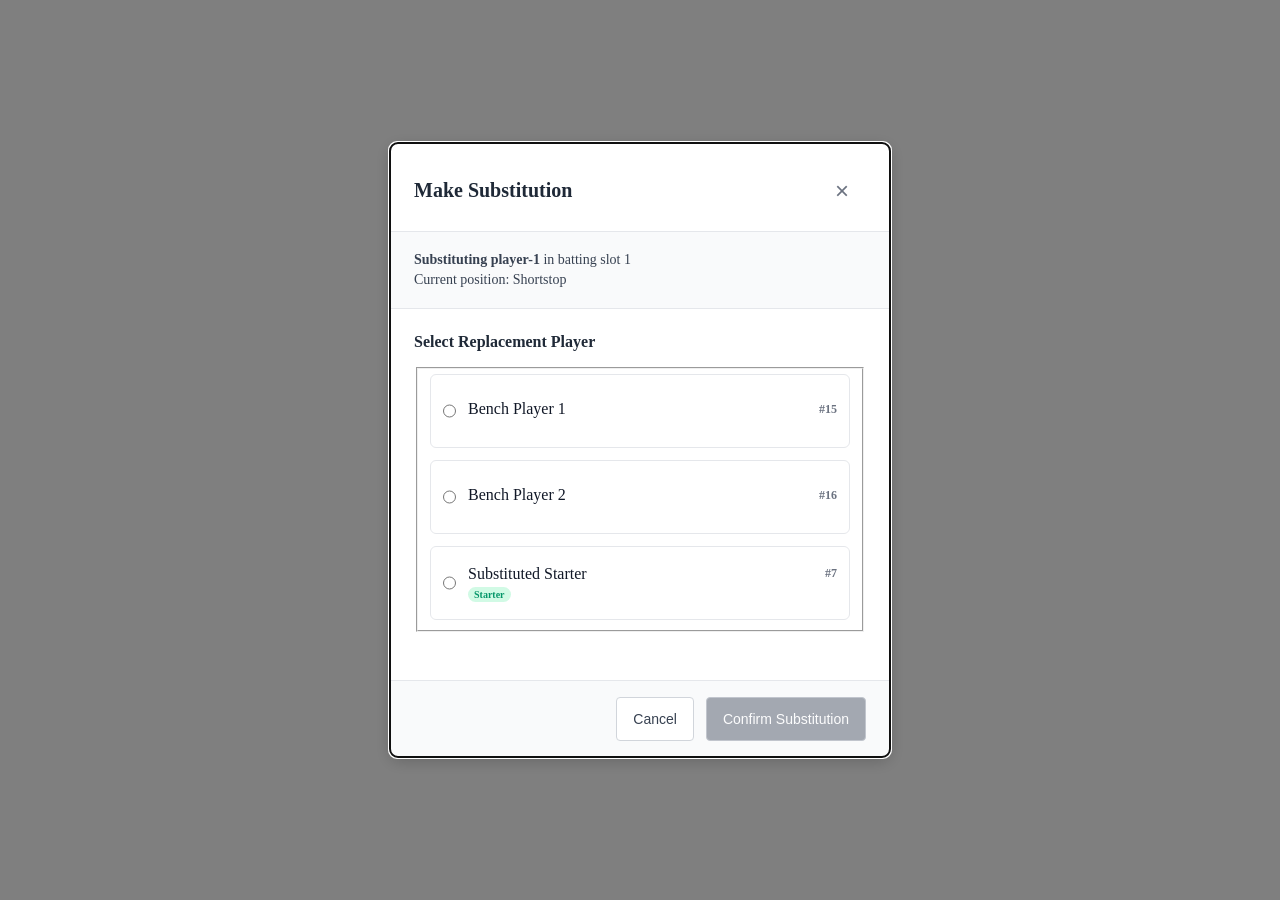
it: SubstitutionDialog Component - TDD Implementation › Field Position Selection › should display available field positions after eligible player selected
# First, select an eligible player
Click the radio button labelled "Bench Player 1 #15": (450, 411) [443,387,456,435]
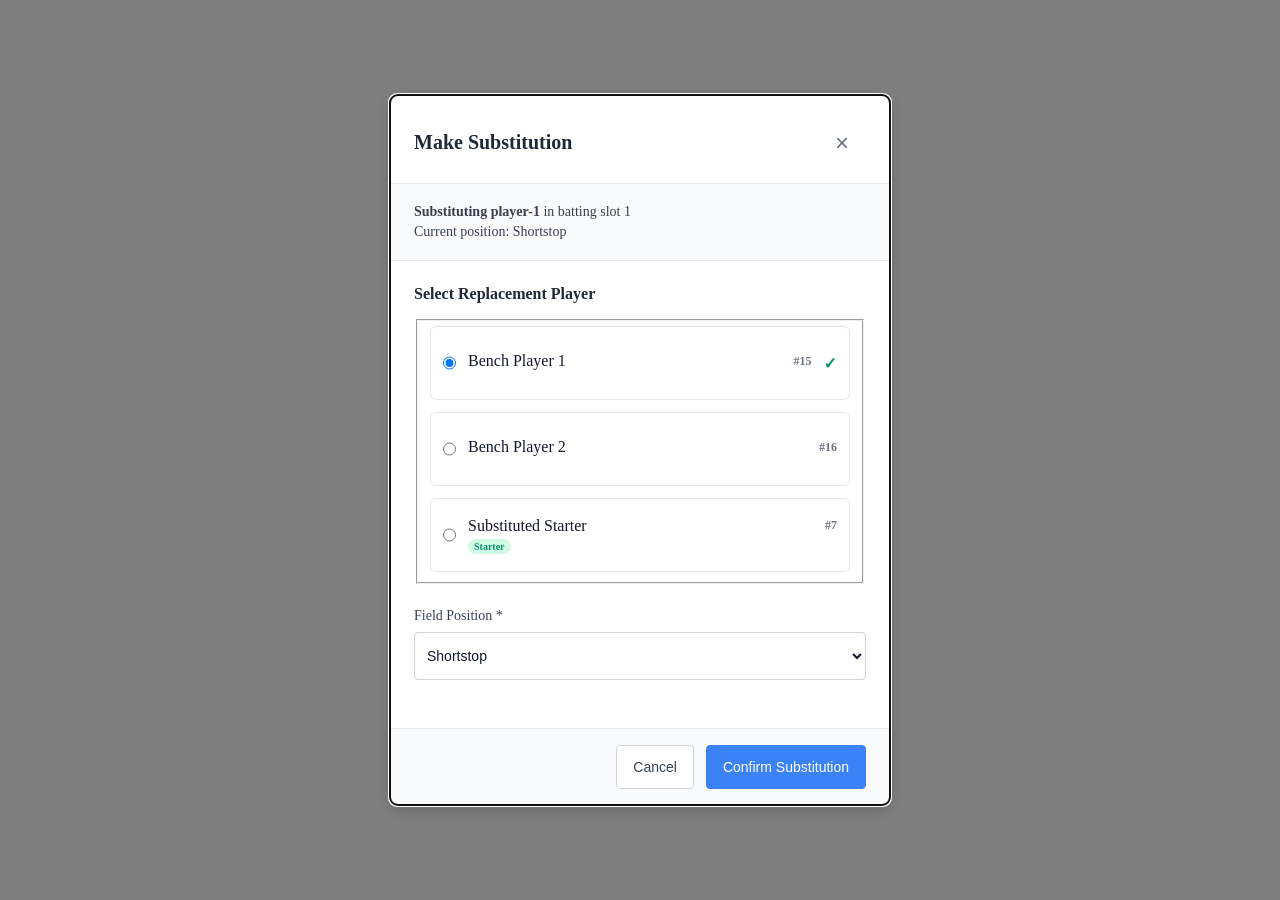
expect the dropdown showing "shortstop" is shown: met, box [414,632,866,680]
